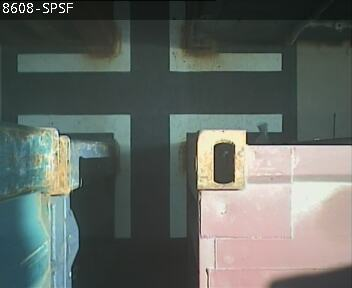groundmarker_1: (14, 114, 284, 238), (16, 2, 284, 72)
